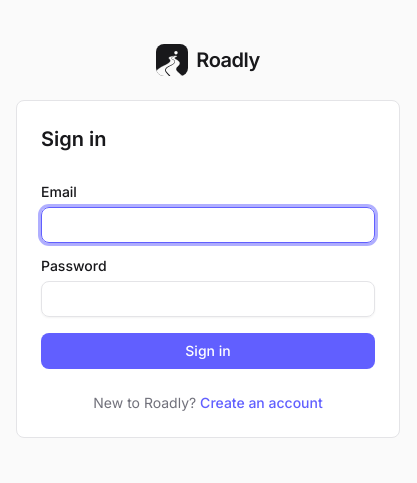
Test: says when the email and password do not match
Type "ada@example.com" into the field labelled "Email".
click(208, 225); type("ada@example.com")  # box x1=41 y1=207 x2=375 y2=243
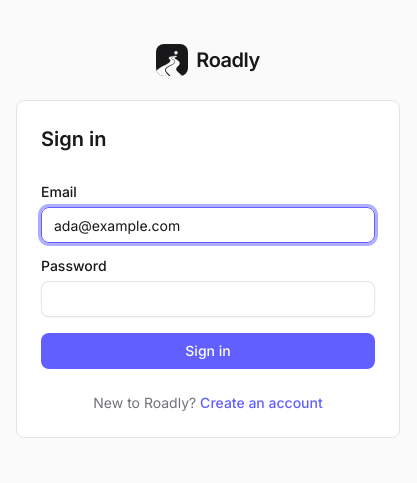
Type "Analytical1" into the password field labelled "Password".
click(208, 299); type("Analytical1")  # box x1=41 y1=281 x2=375 y2=317
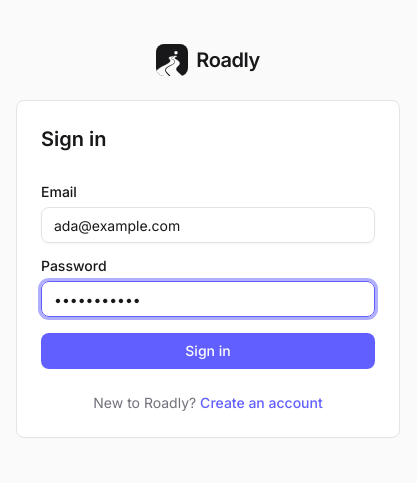
Click the button "Sign in".
click(208, 351)  # box x1=41 y1=333 x2=375 y2=369
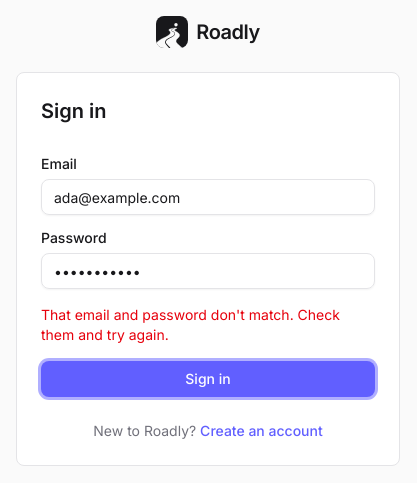
Expected: the message reads "That email and password don't match. Check them and try again.", x1=41 y1=306 x2=340 y2=343
